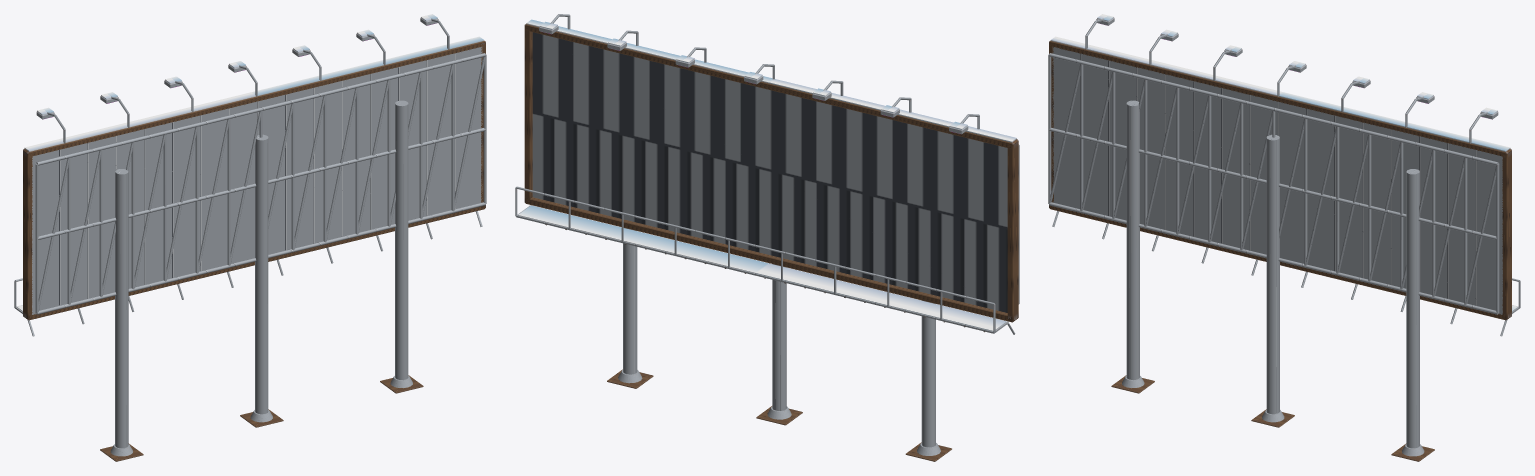
Rendered from ck_billboard_testcard.fbx.
The picture shows the model from 3 angles, left to right: view 1: azimuth 30°, elevation 25°; view 2: azimuth 150°, elevation 25°; view 3: azimuth 330°, elevation 25°; orthographic projection. The views are drawn at different scales.
Parts seen in each view (by area): view 1: ck_billboard_testcard; view 2: ck_billboard_testcard; view 3: ck_billboard_testcard.
Part boxes in pixels (bbox=[...]): ck_billboard_testcard: bbox=[14, 14, 486, 461]; ck_billboard_testcard: bbox=[515, 14, 1019, 461]; ck_billboard_testcard: bbox=[1048, 14, 1520, 461].
Bounding box in the file's own units: 3930 × 2789 × 525.
